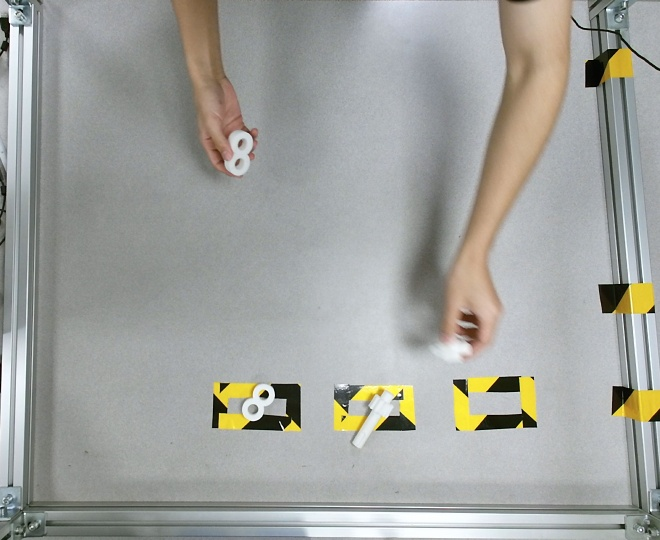stage_1: (224, 131, 253, 175)
